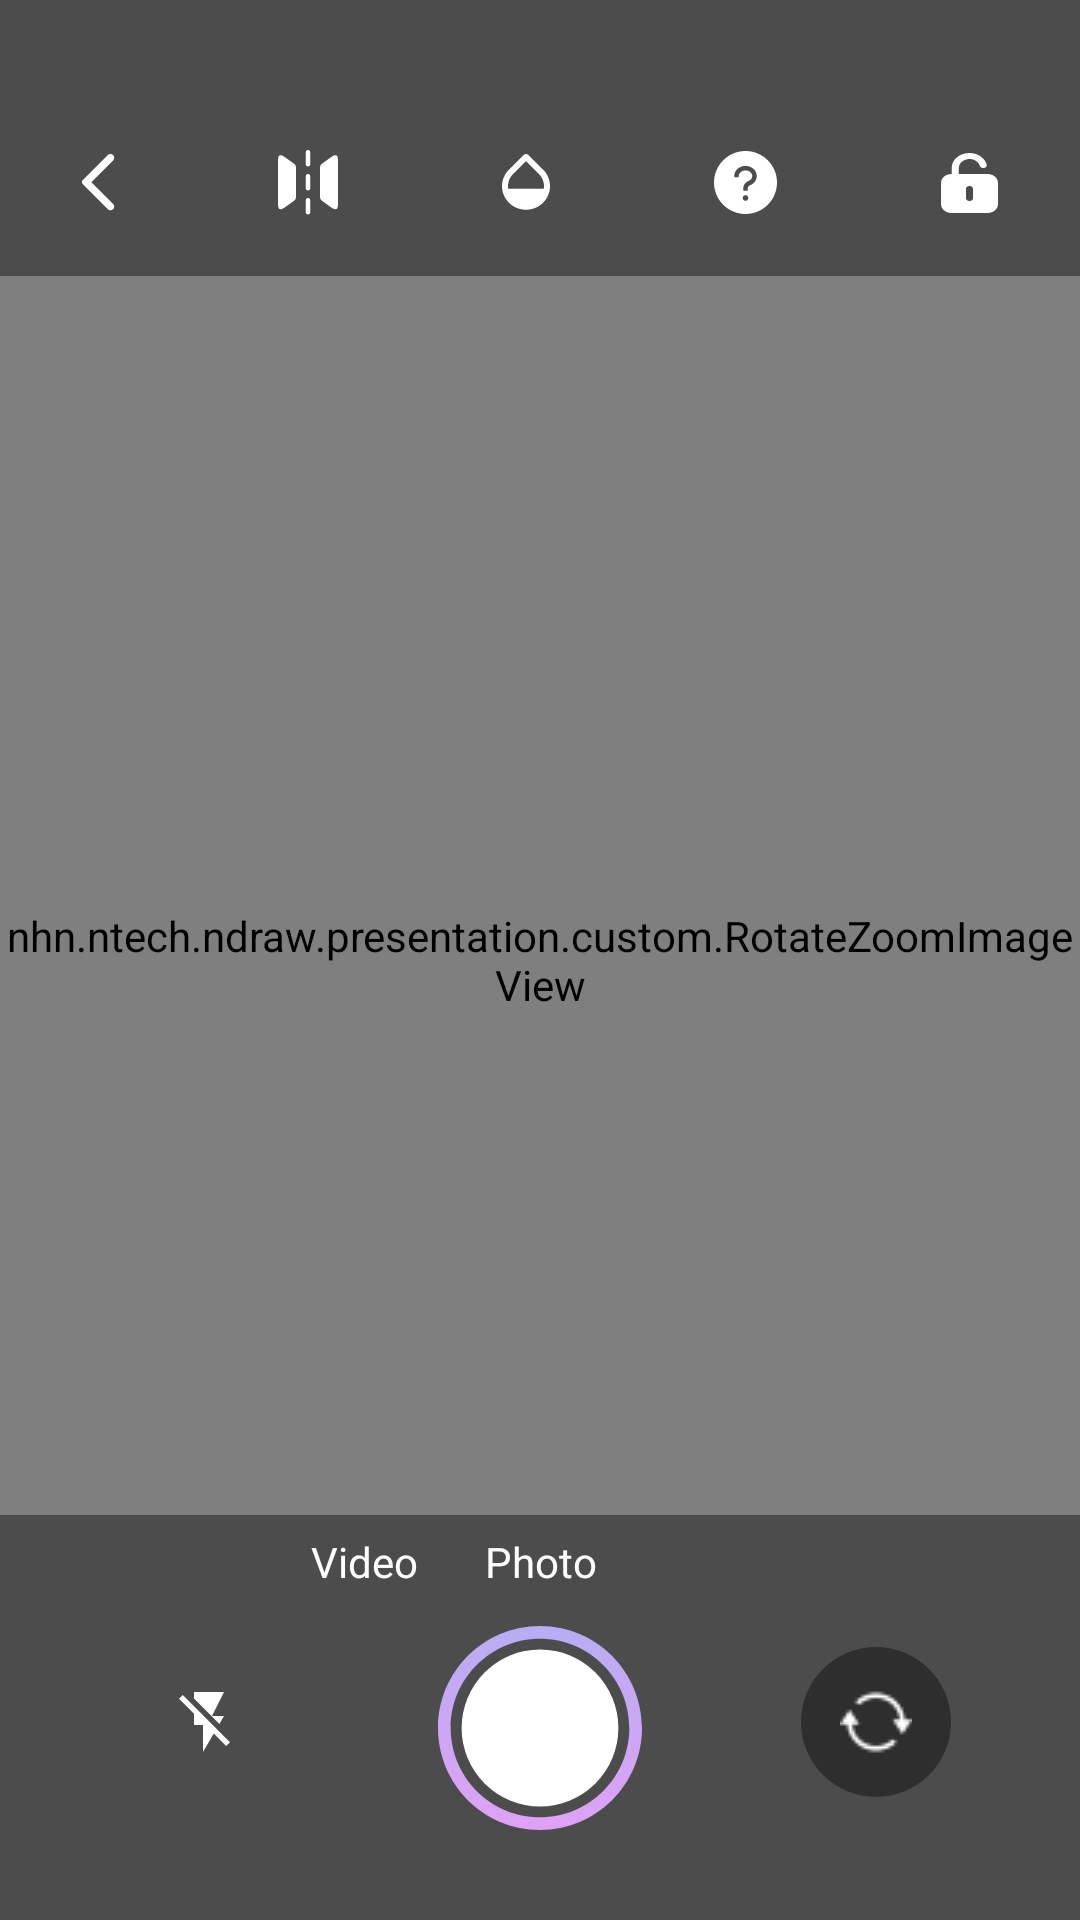

Named icons in this screenshot (1080 × 1920) and their centers, point (x, y):
back: point (98, 182)
flip cam: point (876, 1722)
guide: point (745, 182)
no flash: point (204, 1722)
opacity: point (526, 182)
unlock: point (969, 183)
